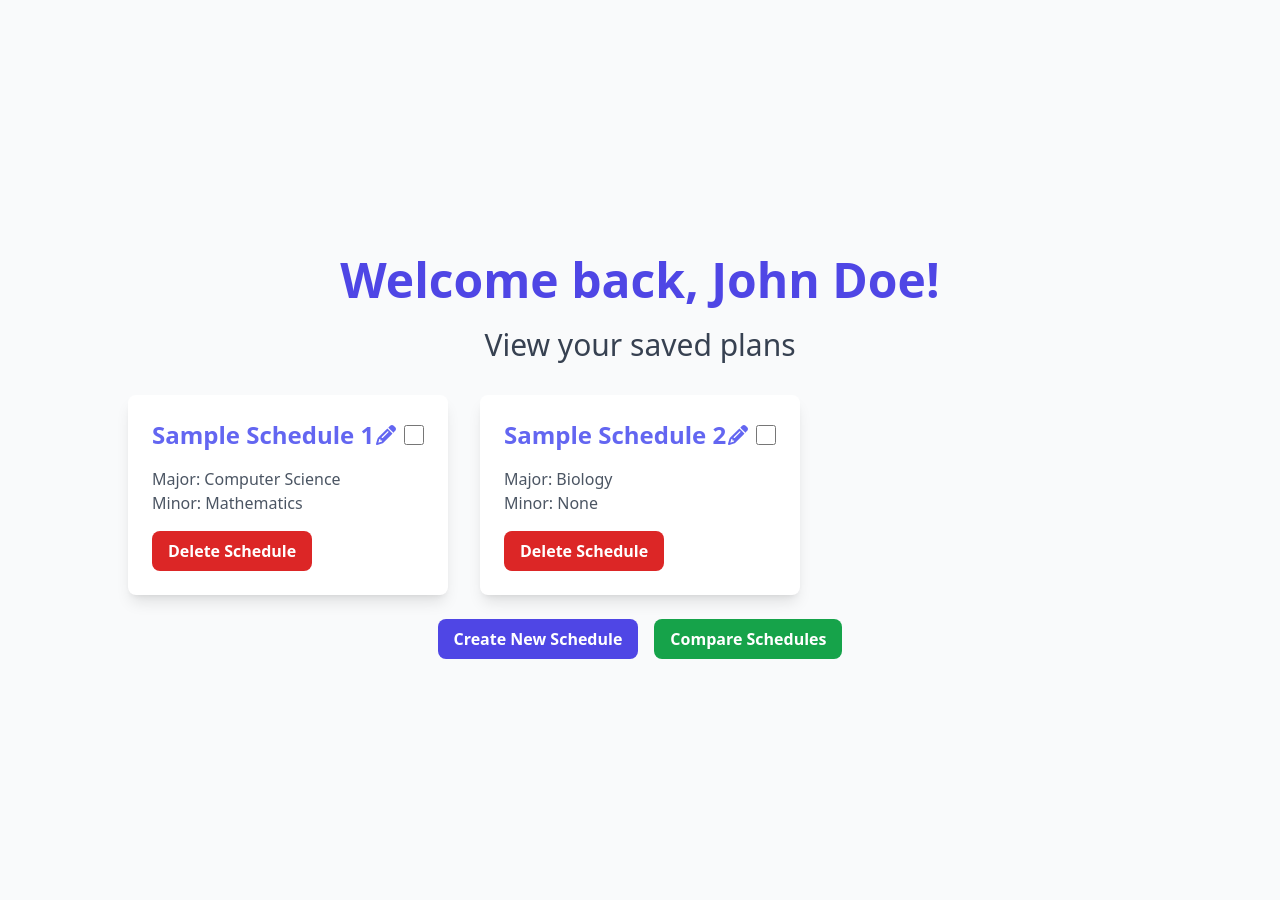
Scenario: HomePage › deletes a schedule and removes it from the list when confirmed in modal
Check: the heading "Sample Schedule 1" is shown, box [152,419,374,451]
// Click the first "Delete Schedule" button to open the modal
Click the button "Delete Schedule" below "Mathematics" at (232, 551), box [152,531,312,571]
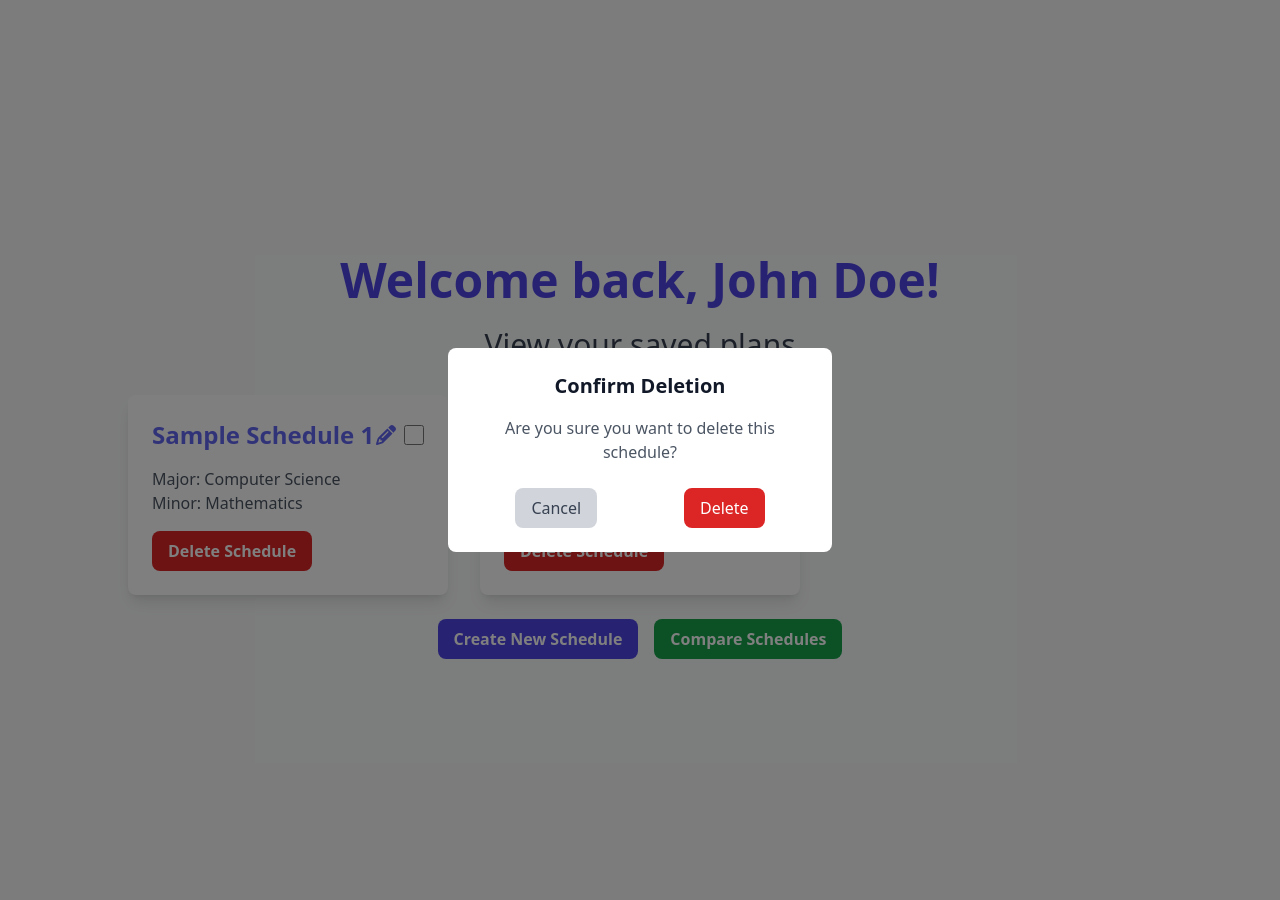
Check: the heading "Confirm Deletion" is shown, box [555,372,726,399]
Click the button "Delete" at (724, 508), box [684,488,765,528]
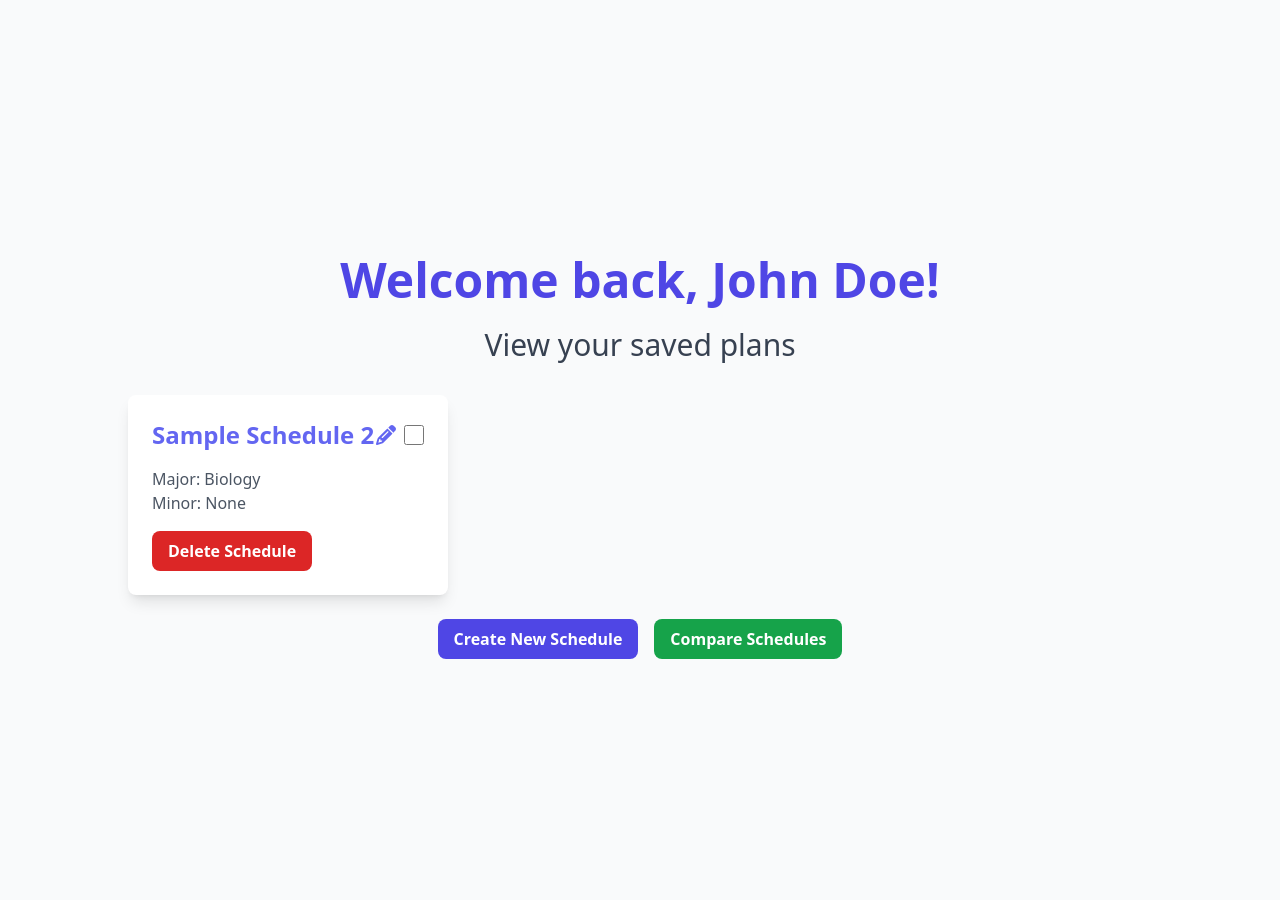
Check: the heading "Sample Schedule 1" is gone
